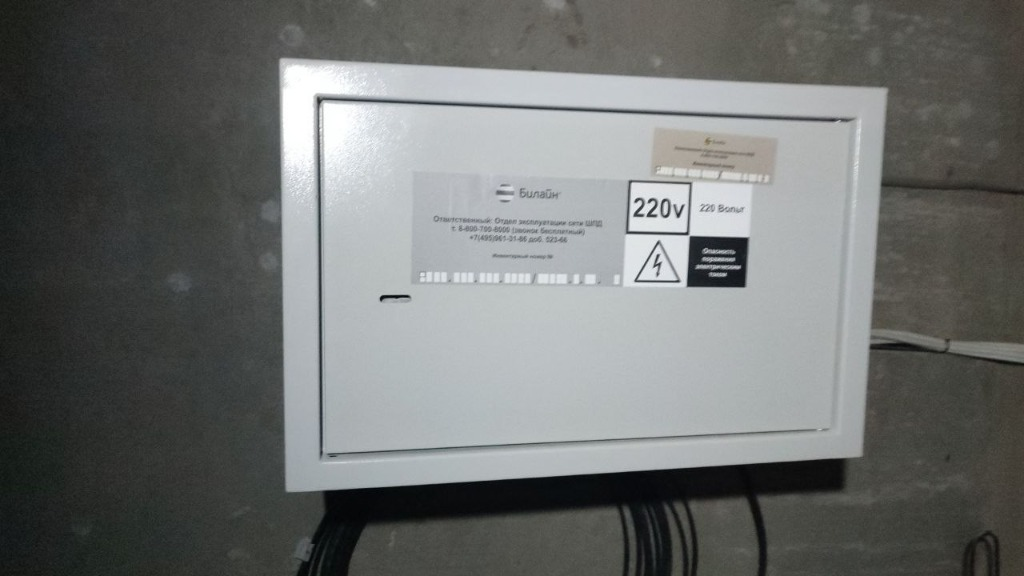shta-7m: (273, 52, 897, 497)
